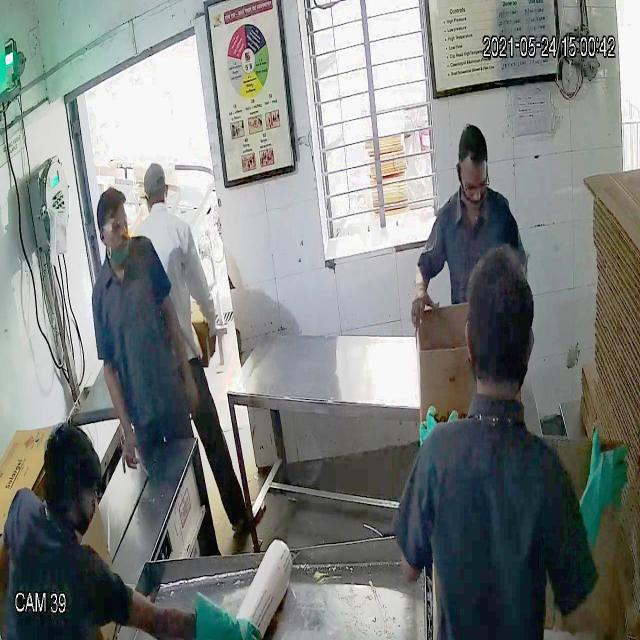glasses: (455, 166, 493, 196), (94, 212, 134, 239)
